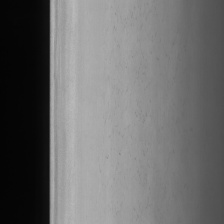silk_spot: (104, 11, 156, 181)
